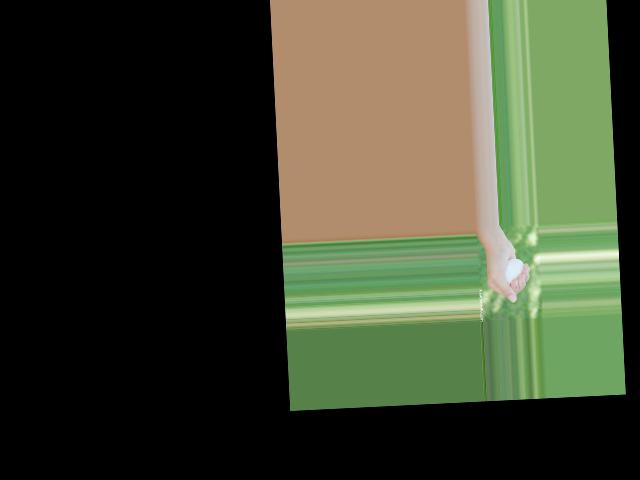egg: (503, 258, 524, 285)
